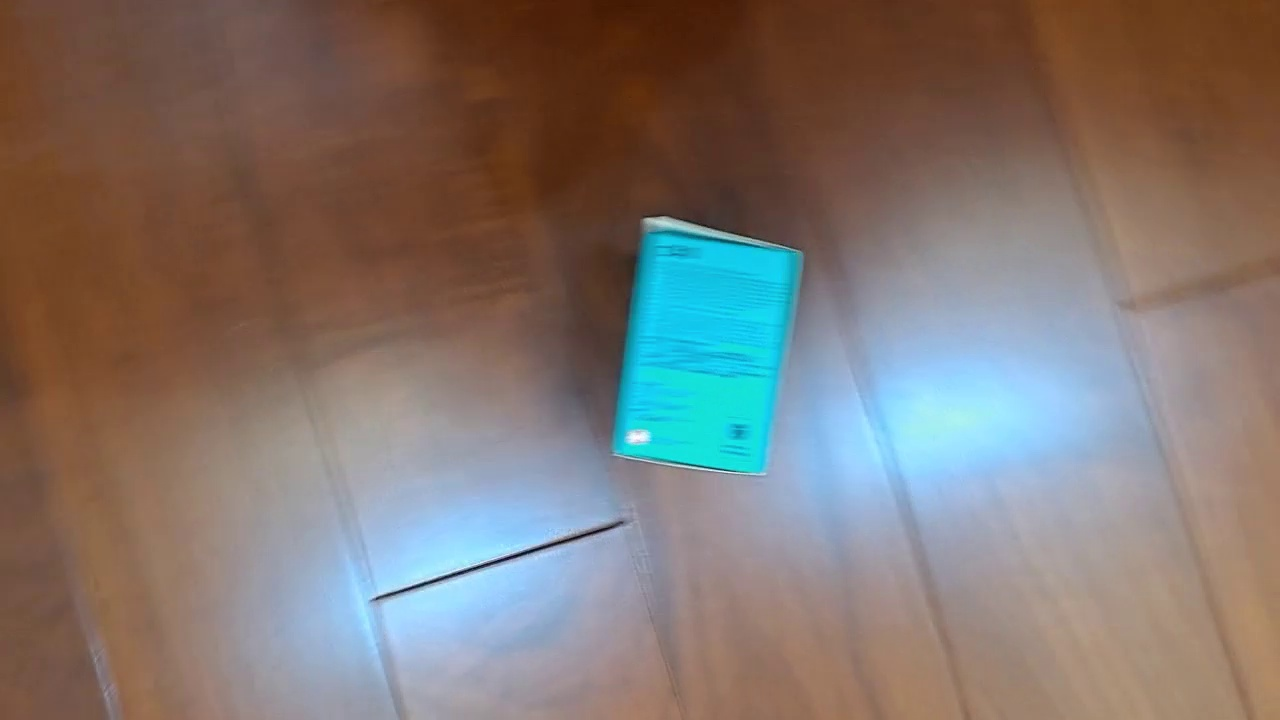webcam: (609, 213, 805, 477)
